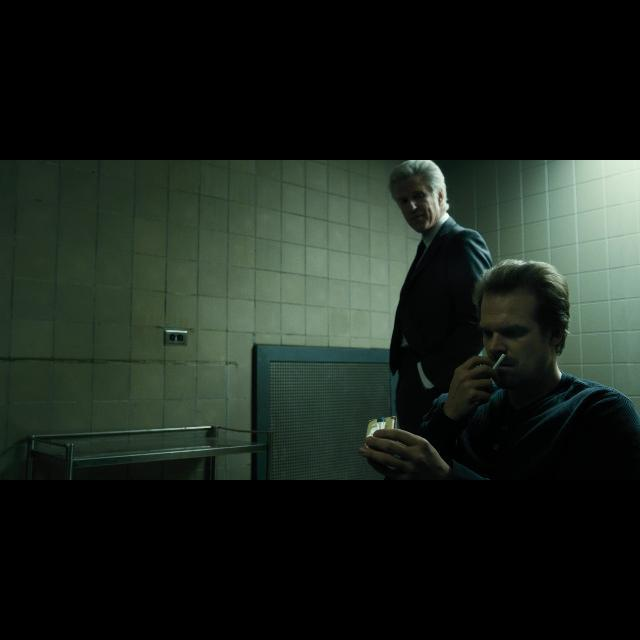rokok: (490, 352, 506, 372)
